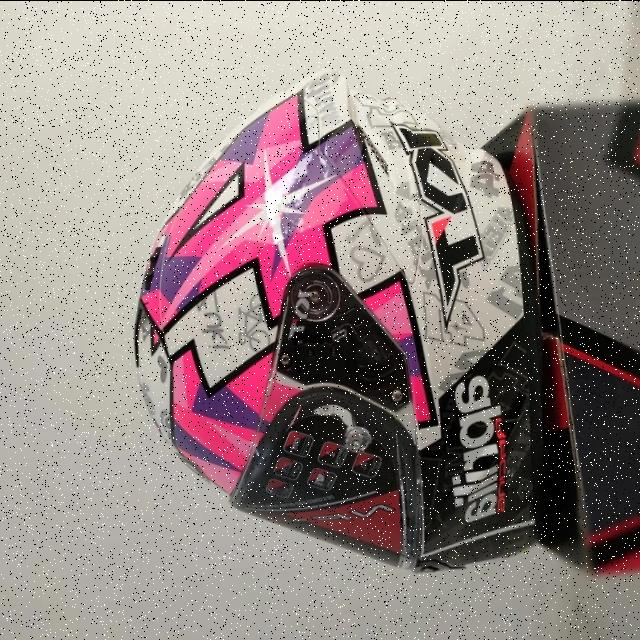Helmet: (134, 69, 640, 572)
